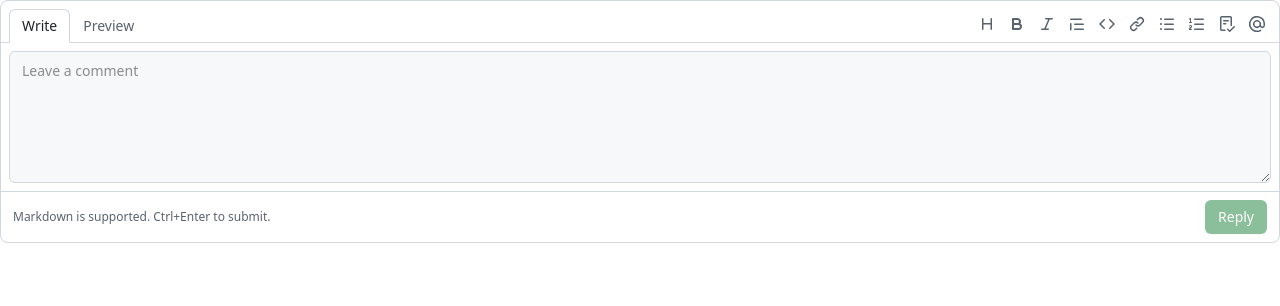
Test: CommentEditor › required mention › warns when the reply drops the required mention
The width and height of the screenshot is (1280, 306).
Type "hello" into the text box at (640, 117), box [9,51,1271,183]
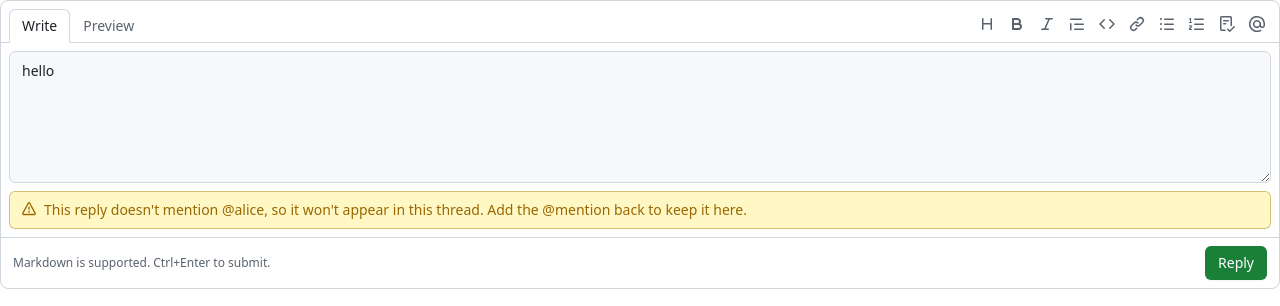
expect the message shows "doesn't mention @alice": met, box [9,191,1271,229]
